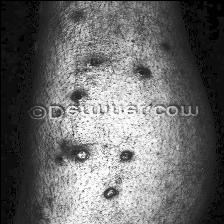Non-Cancerous Skin Condition: (54, 139, 96, 165), (77, 54, 103, 72), (64, 8, 88, 26), (100, 185, 121, 200), (64, 90, 89, 102), (132, 65, 152, 78), (116, 149, 134, 161), (158, 40, 176, 52), (70, 90, 86, 101)
